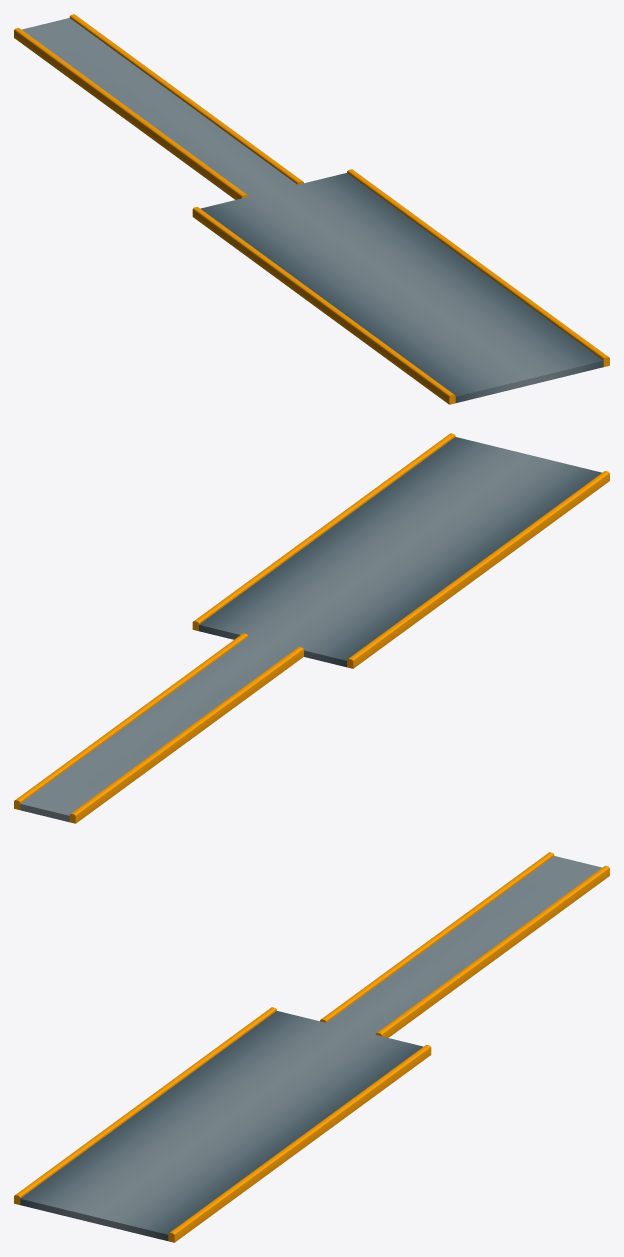
The model's file is platform_003.fbx.
3 views of the same model, one above another, from view 1: azimuth 30°, elevation 25°; view 2: azimuth 150°, elevation 25°; view 3: azimuth 330°, elevation 25° (orthographic).
Visible parts, largest first — view 1: platform_003; view 2: platform_003; view 3: platform_003.
Part boxes in pixels (left/top/right/bottom): platform_003: left=14, top=14, right=609, bottom=404; platform_003: left=14, top=433, right=609, bottom=823; platform_003: left=14, top=852, right=609, bottom=1242.
Bounding box in the file's own units: 1300 × 6798 × 69.59.
